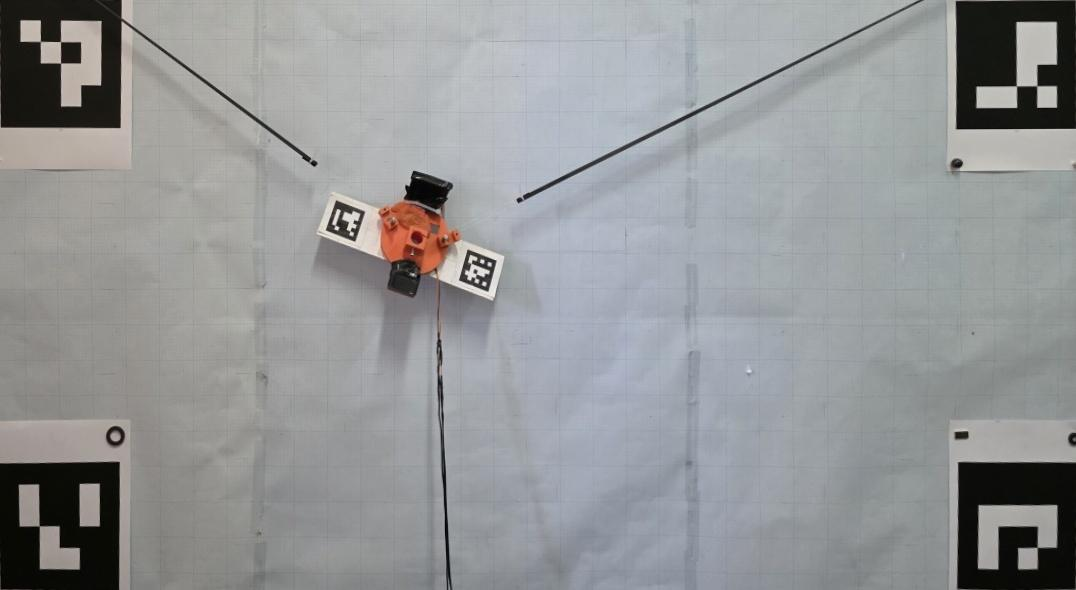robot: (377, 171, 462, 299)
